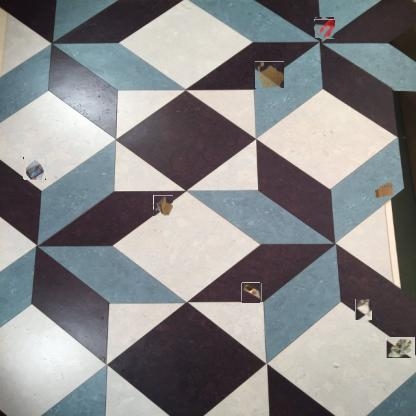dirty: (386, 336, 415, 358), (24, 157, 47, 180), (373, 180, 395, 200), (153, 195, 173, 216), (355, 300, 372, 322), (242, 283, 261, 302)
liquid: (254, 61, 284, 88), (314, 18, 335, 39)
